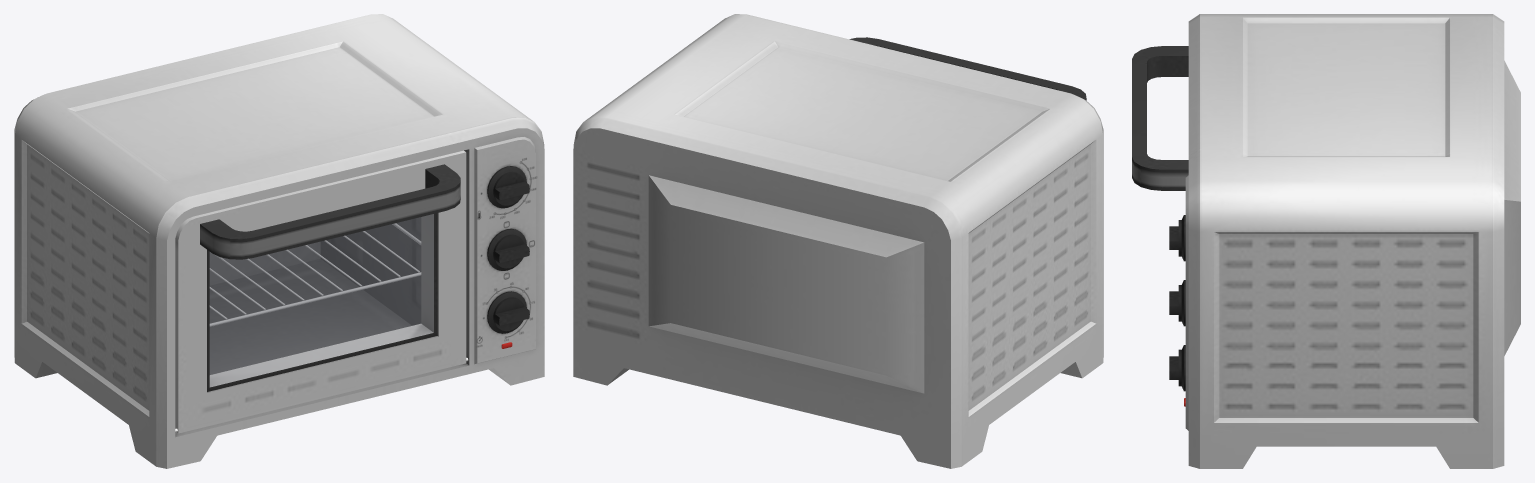
File: sweethome3d-scopia-small-oven-341.glb
3 views of the same model, side by side, from view 1: azimuth 30°, elevation 25°; view 2: azimuth 150°, elevation 25°; view 3: azimuth 270°, elevation 25° (orthographic). The views are drawn at different scales.
Visible parts, largest first — view 1: oven_Cube.001, sweethome3d_opening_on_hinge_1_door_Cube.007, sweethome3d_opening_on_hinge_1_externalglass_Cube.004, sweethome3d_opening_on_hinge_1_internalglass_Cube.005, metal-inside_Cube.010, sweethome3d_opening_on_hinge_1_handle_Cube.008, grill_Cylinder.004, controls; view 2: oven_Cube.001, sweethome3d_opening_on_hinge_1_handle_Cube.008; view 3: oven_Cube.001, sweethome3d_opening_on_hinge_1_handle_Cube.008.
Boxes of the visible parts, x1,y1,x2,y2 form: oven_Cube.001: (14,14,544,468); sweethome3d_opening_on_hinge_1_door_Cube.007: (175,150,466,433); sweethome3d_opening_on_hinge_1_externalglass_Cube.004: (210,214,433,386); sweethome3d_opening_on_hinge_1_internalglass_Cube.005: (210,218,420,374); metal-inside_Cube.010: (209,217,421,374); sweethome3d_opening_on_hinge_1_handle_Cube.008: (200,164,460,259); grill_Cylinder.004: (209,223,421,326); controls: (477,158,536,347); oven_Cube.001: (573,14,1103,468); sweethome3d_opening_on_hinge_1_handle_Cube.008: (849,37,1086,100); oven_Cube.001: (1169,14,1520,468); sweethome3d_opening_on_hinge_1_handle_Cube.008: (1132,46,1188,190).
Size of the model in its own units: 56.4 by 36.4 by 47.26.
12 materials, 8 textured.
